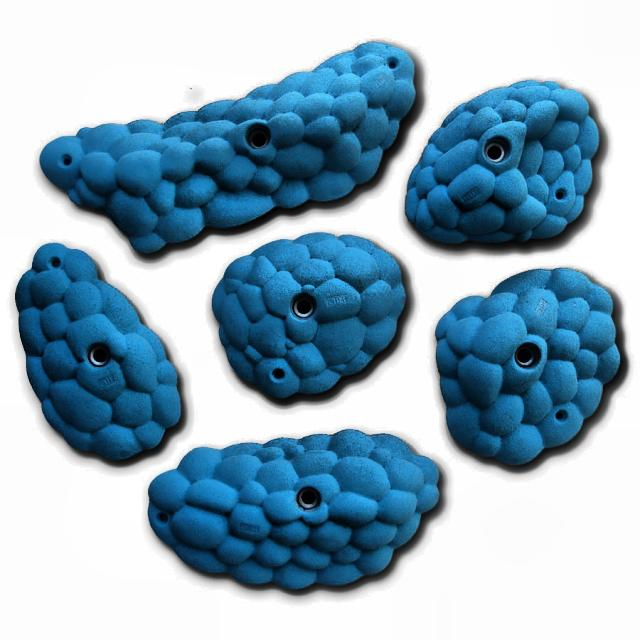Hold: (44, 44, 414, 239), (145, 430, 441, 589), (443, 266, 615, 470), (215, 230, 406, 400), (409, 79, 601, 246), (18, 240, 168, 452)
